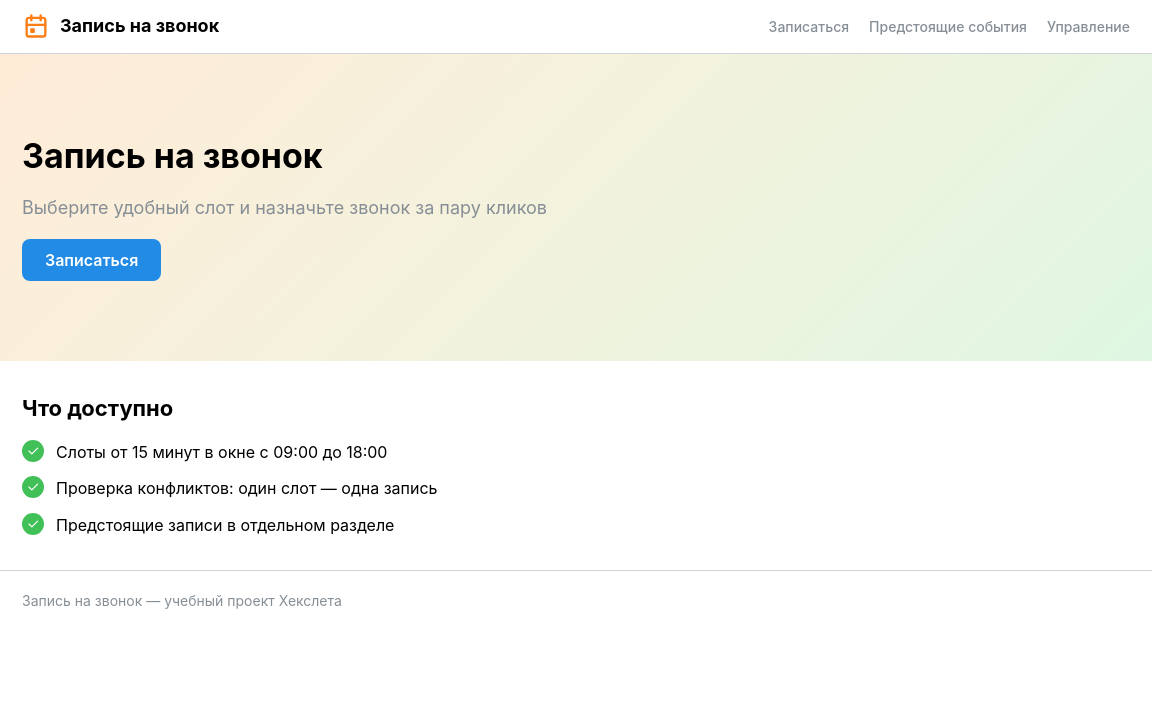
Test: App › переводит в управление типами событий по ссылке навигации
This screenshot has width=1152, height=720.
Click the link "Управление". click: (1088, 26)
box: [1047,14,1130,39]
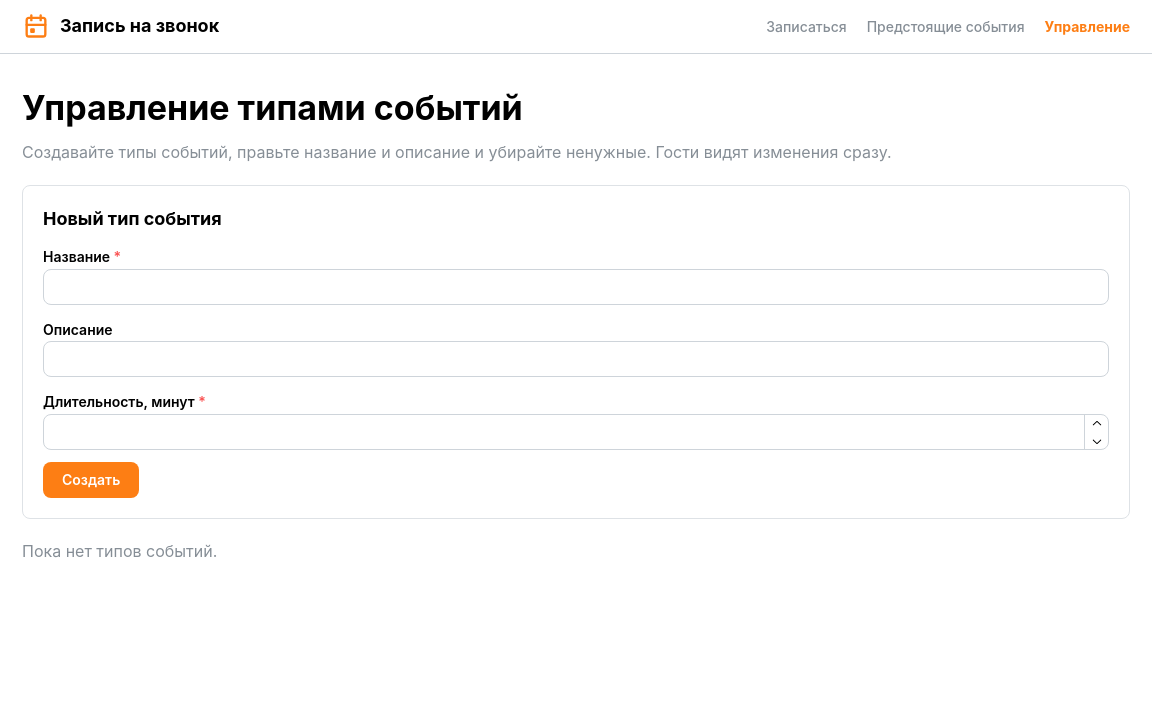
Check: the heading "Управление типами событий" is shown, box [22,87,523,128]
